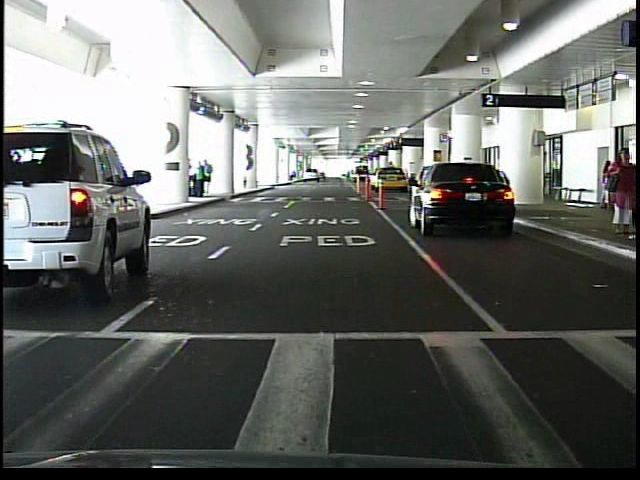person: (603, 149, 637, 240), (599, 154, 614, 211), (192, 160, 205, 199), (203, 159, 214, 198)
